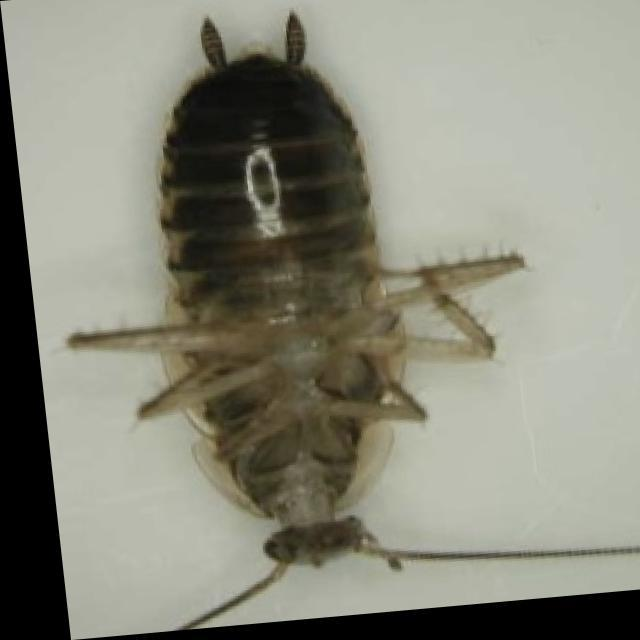cockroach: (75, 0, 478, 602)
